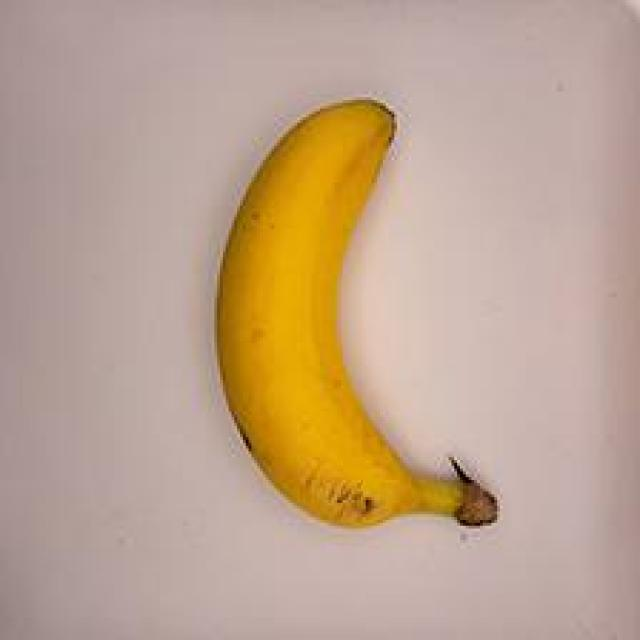Ripe: (154, 73, 528, 545)
